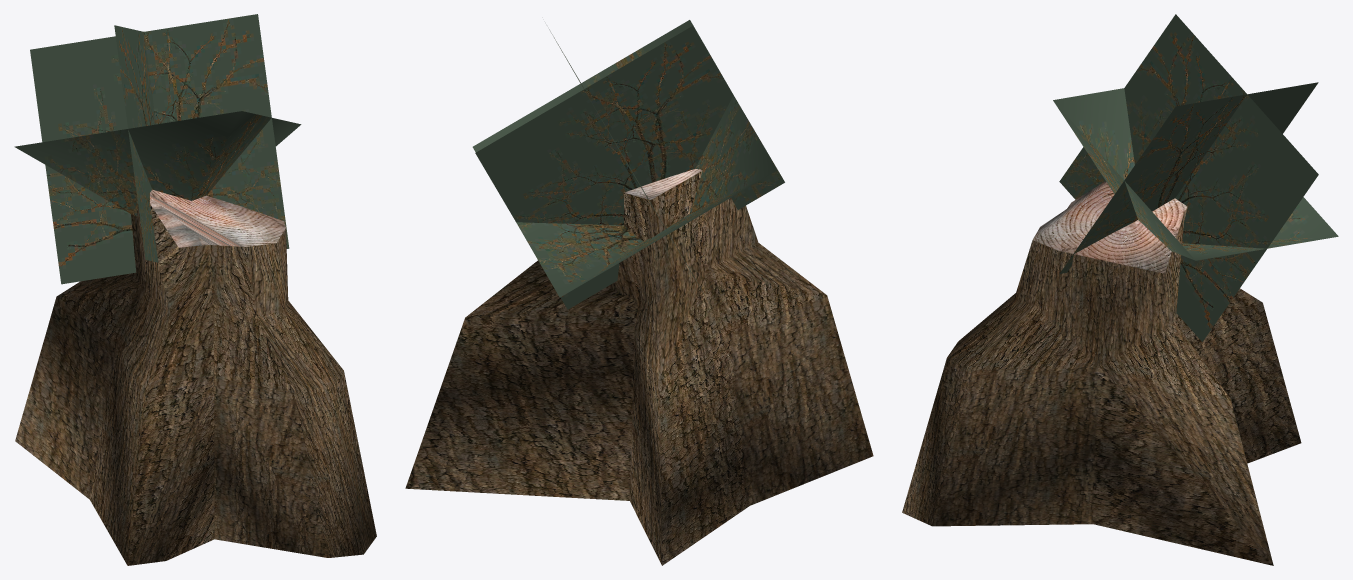
File: decd_oakstump_lg_l1.fbx
The picture shows the model from 3 angles, left to right: view 1: azimuth 30°, elevation 25°; view 2: azimuth 150°, elevation 25°; view 3: azimuth 270°, elevation 25°; orthographic projection. The views are drawn at different scales.
Parts seen in each view (by area): view 1: mesh_node; view 2: mesh_node; view 3: mesh_node.
Boxes of the visible parts, x1,y1,x2,y2 form: mesh_node: (14,14,376,565); mesh_node: (405,20,873,565); mesh_node: (902,14,1338,565).
Bounding box in the file's own units: 4.55 × 6.35 × 5.64.
